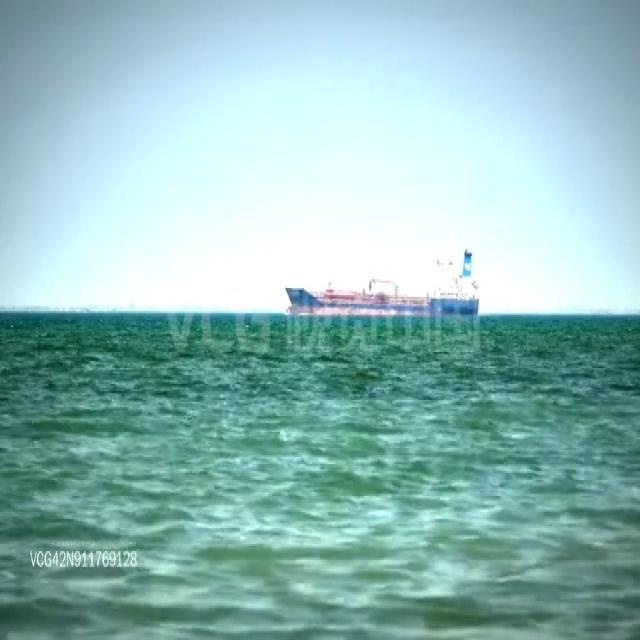cargoship: (286, 242, 480, 324)
